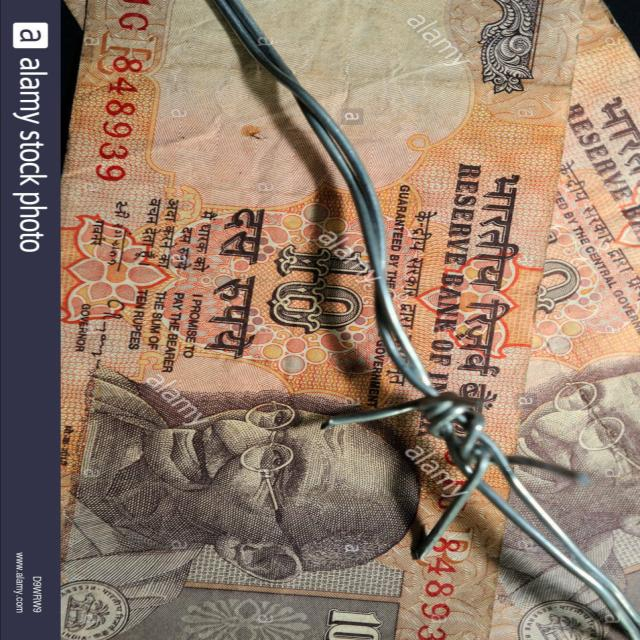10IndianRupees: (69, 0, 586, 640)
